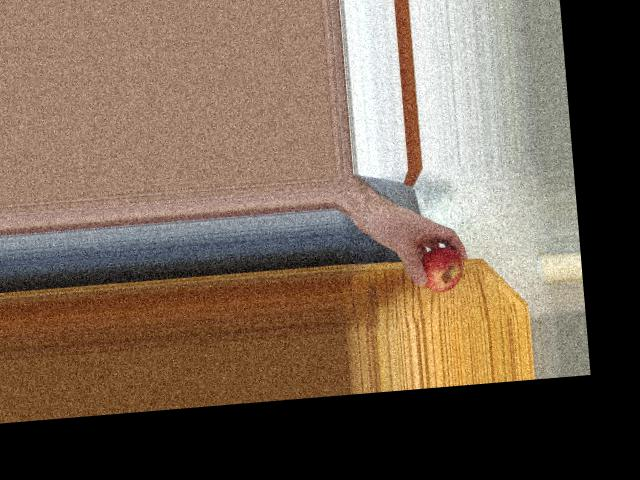apple: (412, 244, 465, 293)
